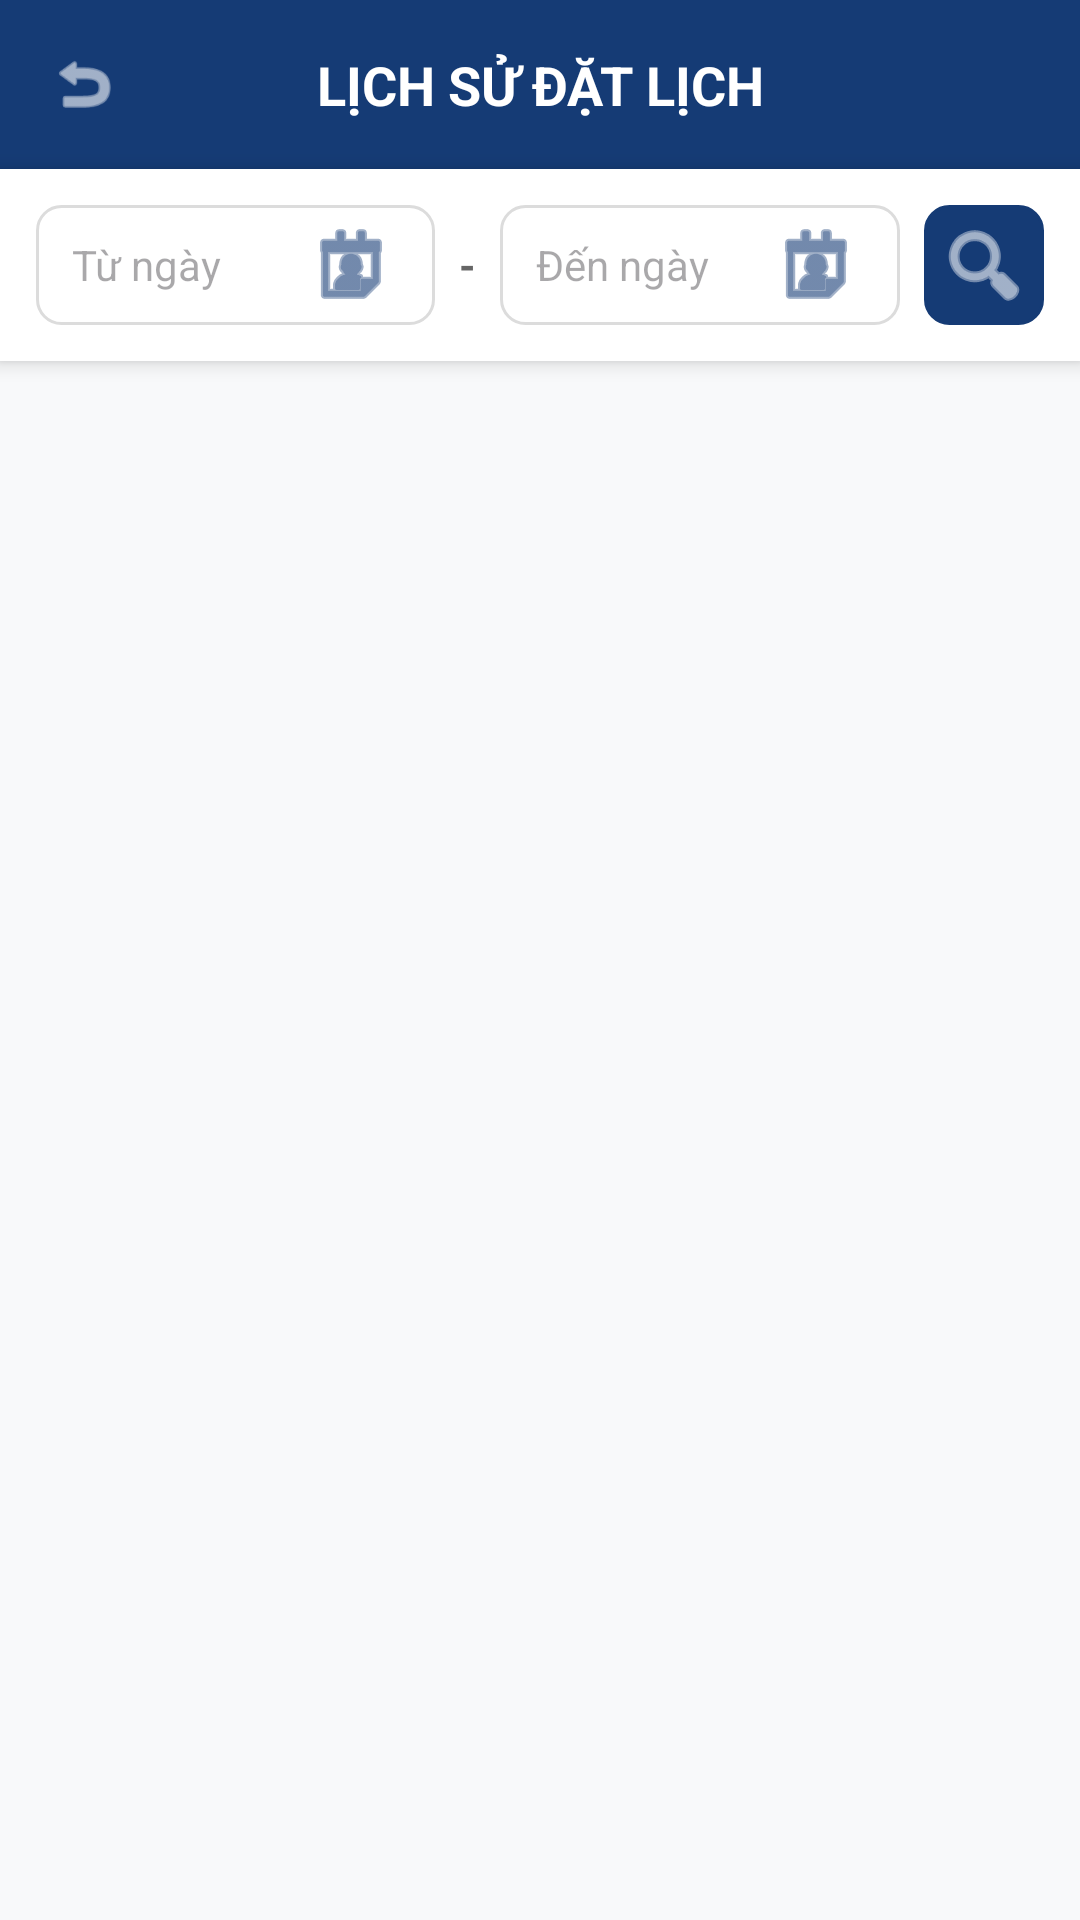

Icons on this 1080px x 1920px Android screen, each with its box as Rect(x1, y1, x2, y2):
revert: Rect(59, 61, 111, 108)
search: Rect(924, 205, 1044, 325)
